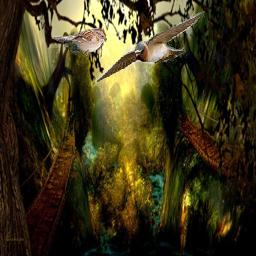Sparrow: (53, 27, 107, 57)
Swallow: (93, 10, 205, 83)
